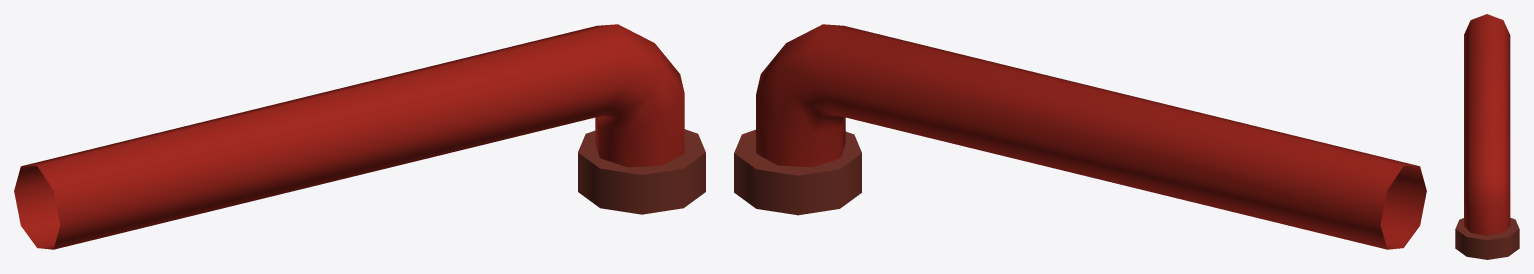
Rendered from Pipe_1_E_2_2.fbx.
3 renders of one model, left to right at view 1: azimuth 30°, elevation 25°; view 2: azimuth 150°, elevation 25°; view 3: azimuth 270°, elevation 25°, orthographic. The views are drawn at different scales.
Visible parts, largest first — view 1: Pipe_1_E_2_2; view 2: Pipe_1_E_2_2; view 3: Pipe_1_E_2_2.
Boxes of the visible parts, x1,y1,x2,y2 form: Pipe_1_E_2_2: (14, 24, 705, 249); Pipe_1_E_2_2: (734, 24, 1426, 249); Pipe_1_E_2_2: (1455, 14, 1519, 259).
Bounding box in the file's own units: 180 × 43.92 × 30.12.
